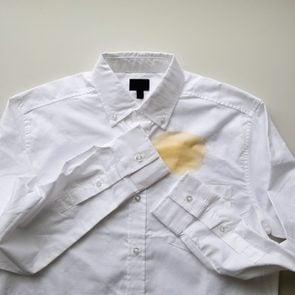gun: (149, 126, 206, 173)
